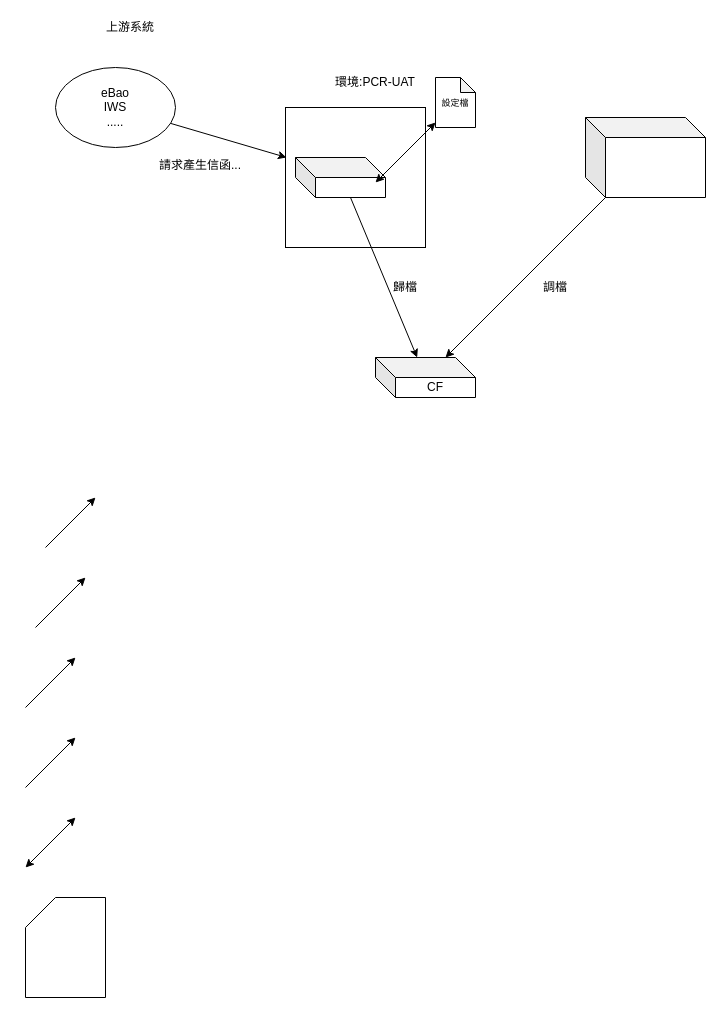
Image size: 723x1015. Some labels were removed from this diagram. Here are the shapes that lost their labels. From the top down, the centre of each, then its label:
At [340,177]: "SIP".
At [645,157]: "ESP".
